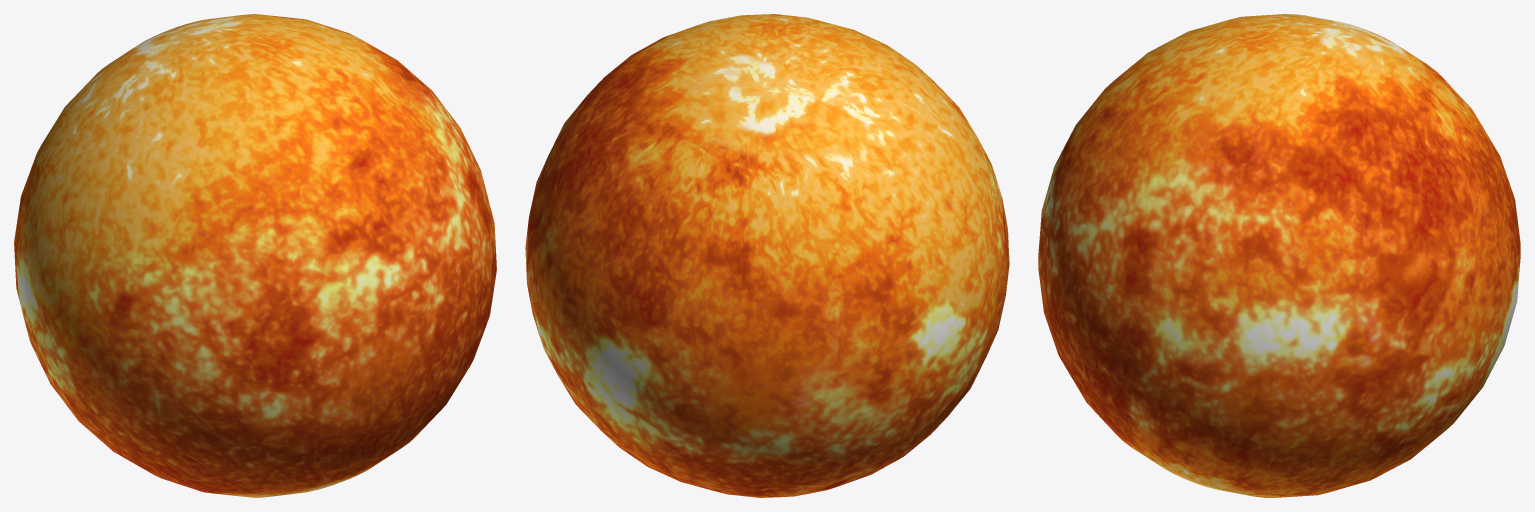
Rendered from Sol.glb.
3 renders of one model, left to right at view 1: azimuth 30°, elevation 25°; view 2: azimuth 150°, elevation 25°; view 3: azimuth 270°, elevation 25°, orthographic.
Visible parts, largest first — view 1: Sol; view 2: Sol; view 3: Sol.
Part boxes in pixels (x1,y1,x2,y2): Sol: (14,14,496,497); Sol: (525,14,1009,497); Sol: (1038,14,1520,497).
Size of the model in its own units: 16.44 by 16.44 by 16.37.
1 material, 1 textured.
